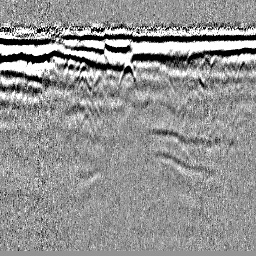cavity: (117, 60, 138, 92)
